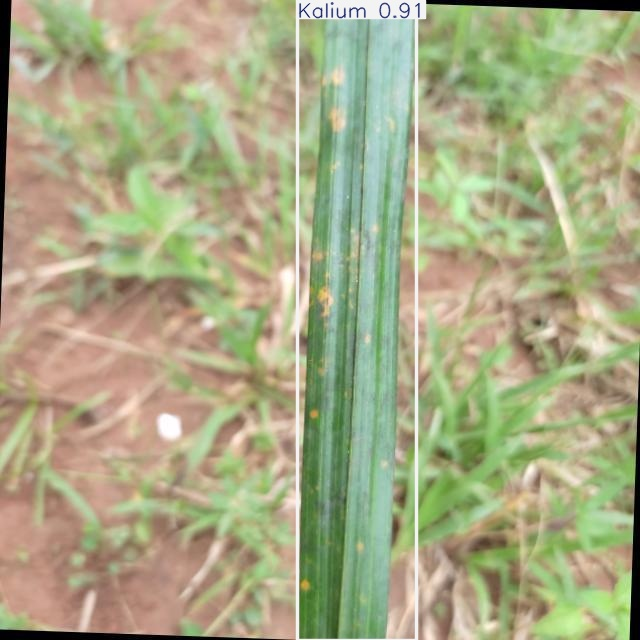Kalium: (297, 1, 417, 640)
